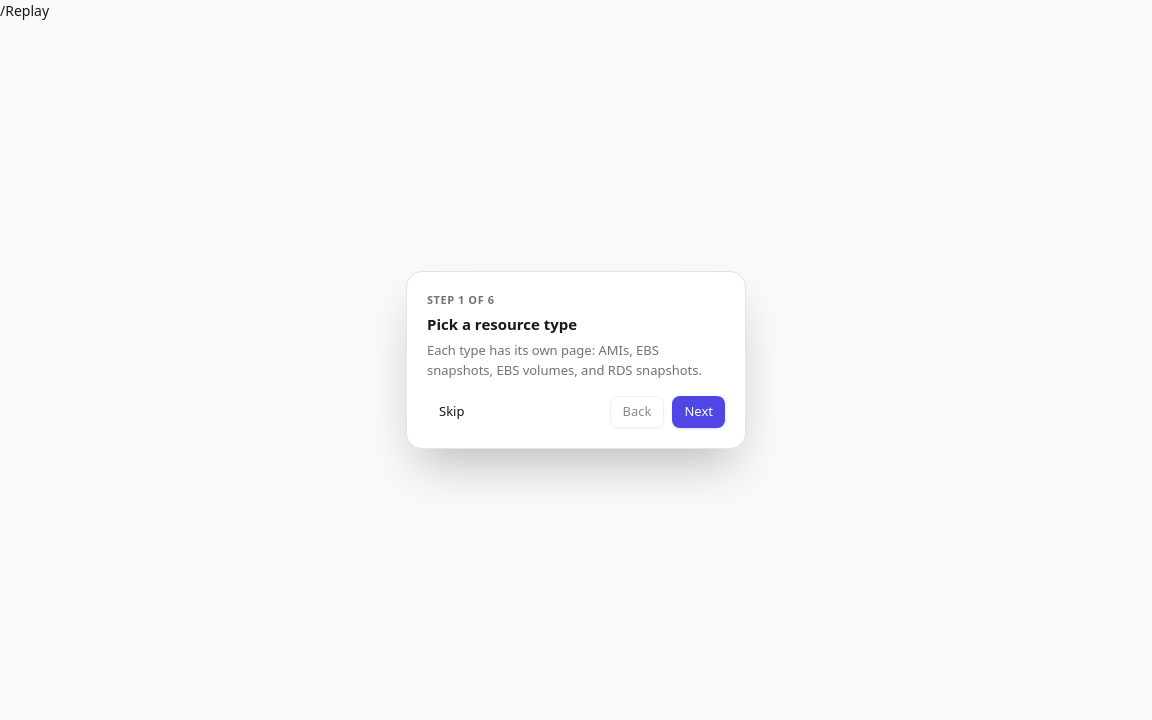
Test case: Walkthrough › ends with Done on the last step
Click the button "Next" at x=699, y=412, box [672,396,725,428]
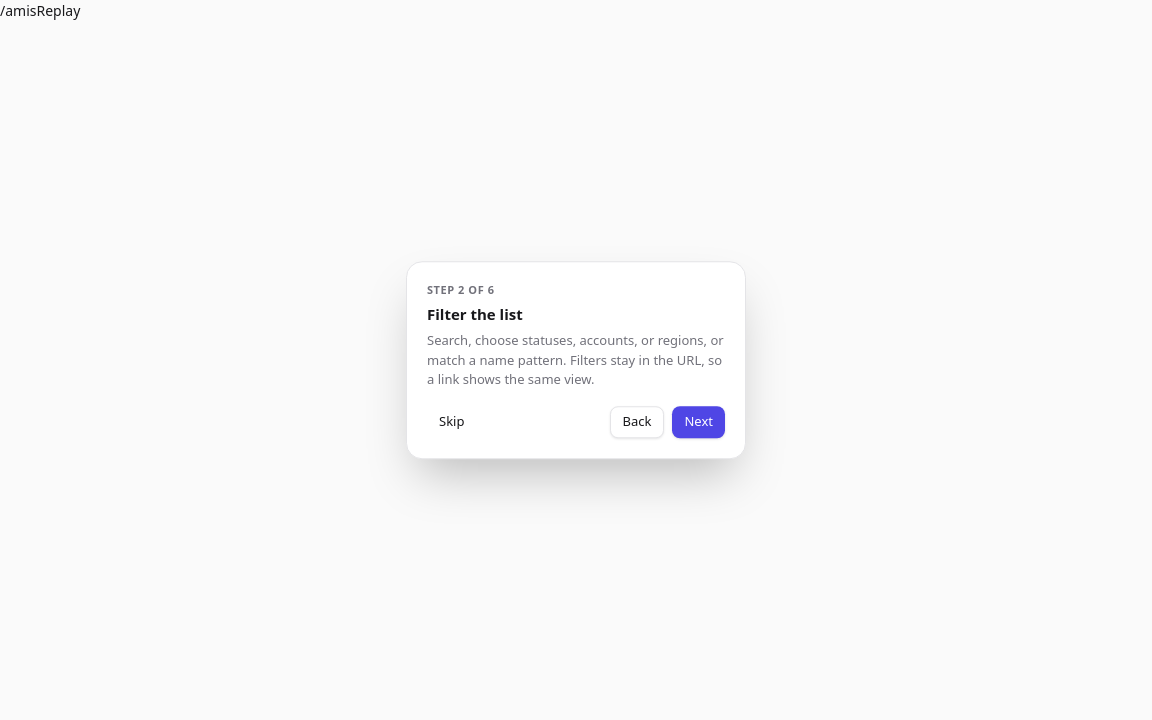
Click the button "Next" at x=699, y=422, box [672,406,725,438]
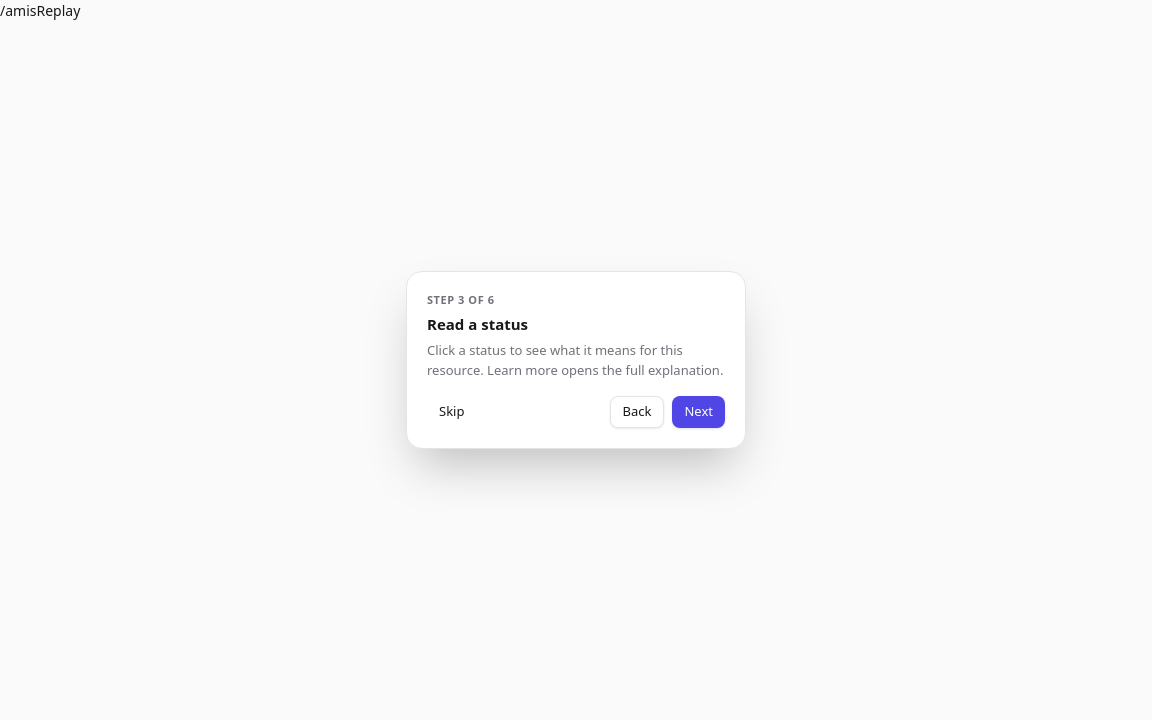
Click the button "Next" at x=699, y=412, box [672,396,725,428]
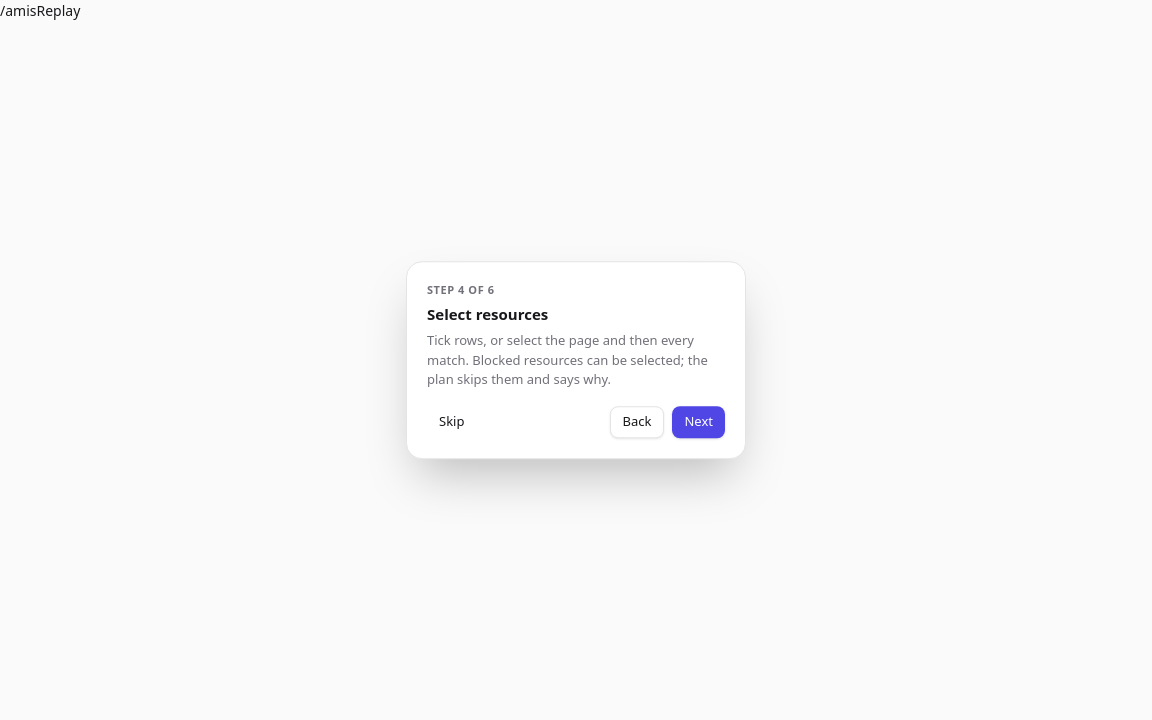
Click the button "Next" at x=699, y=422, box [672,406,725,438]
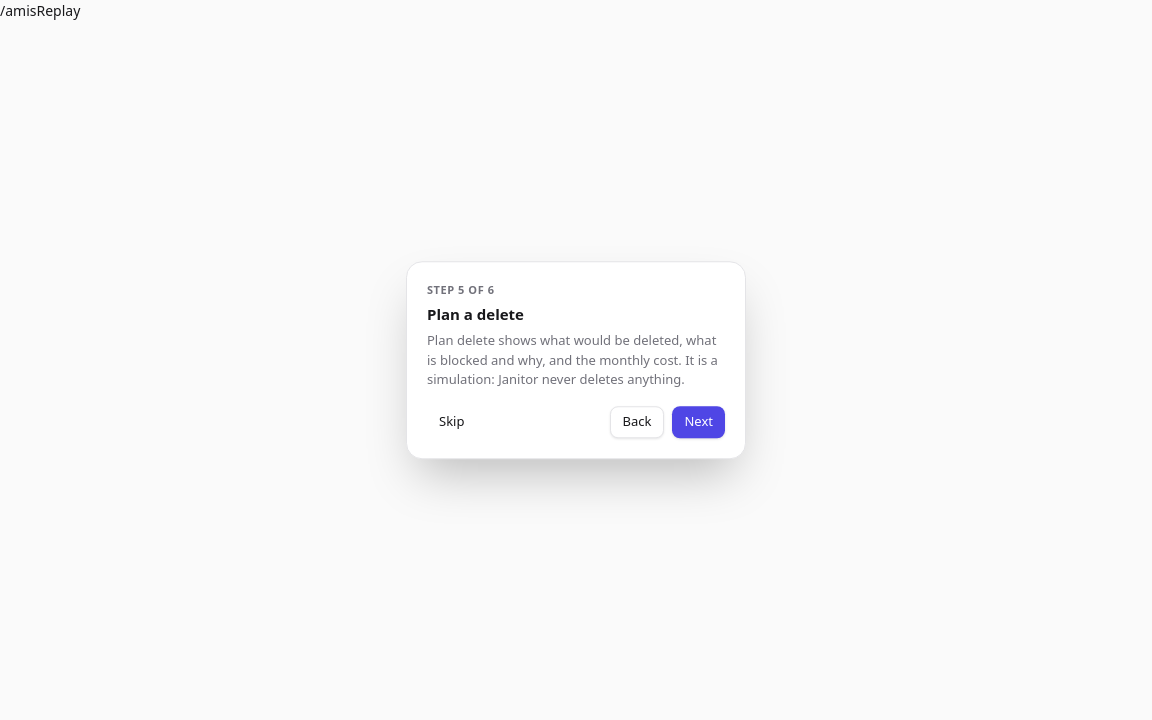
Click the button "Next" at x=699, y=422, box [672,406,725,438]
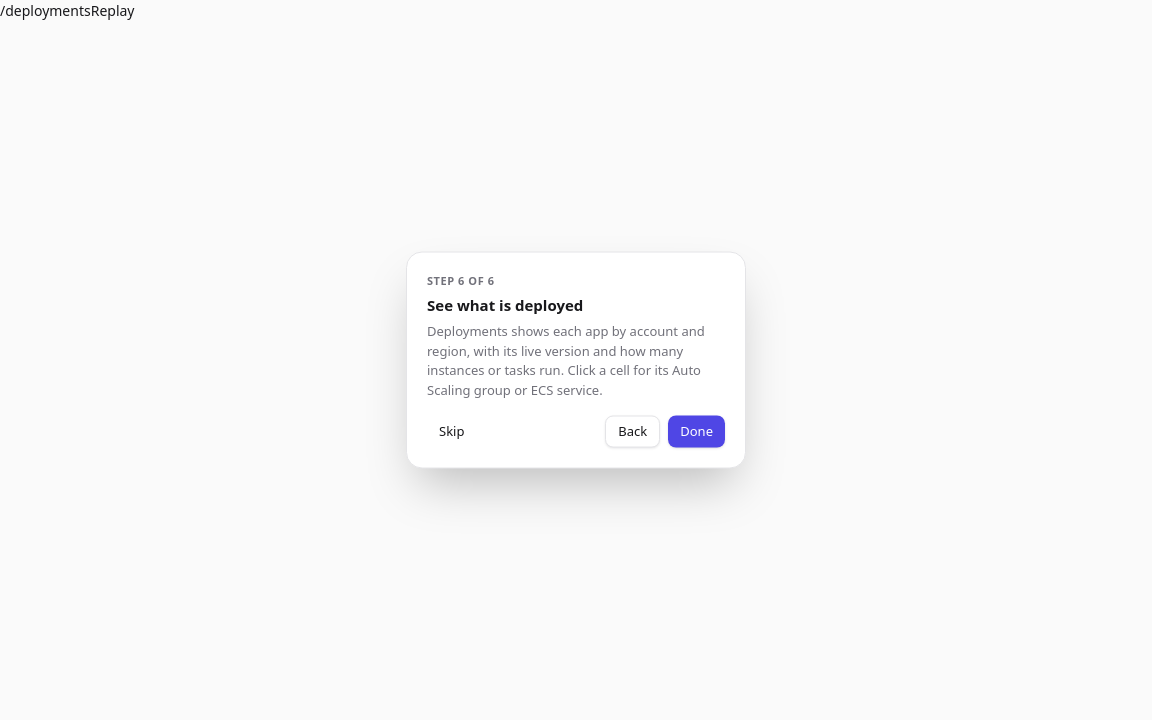
Check: the text "Step 6 of 6" is shown, box [427,272,494,288]
Check: the text with test id "where" reads "/deployments", box [0,1,91,20]
Click the button "Done" at x=697, y=432, box [668,416,725,448]
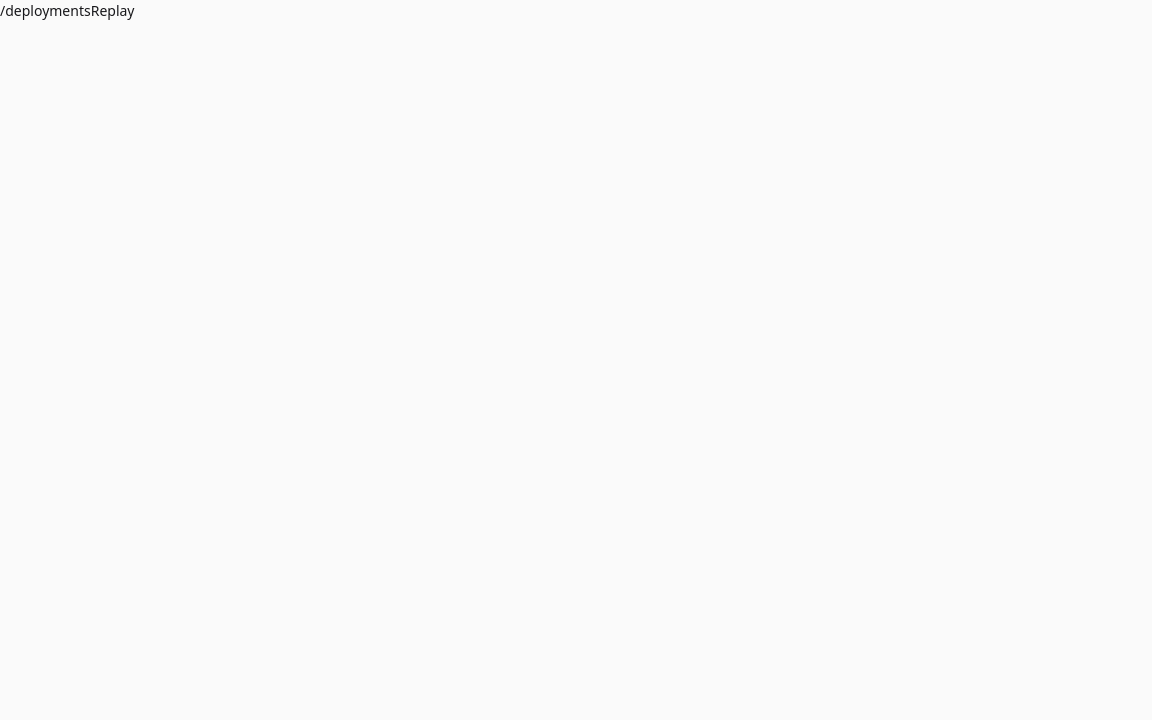
Check: the dialog "Walkthrough" is gone
